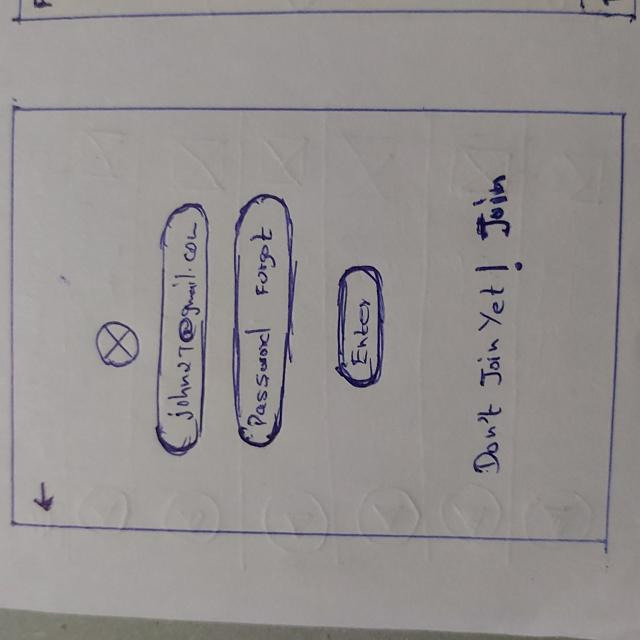BackButton: (28, 478, 63, 519)
Button: (333, 265, 385, 391)
EditText: (228, 189, 299, 455), (156, 204, 210, 460)
MainLayout: (7, 101, 628, 547)
RoundedImage: (91, 319, 145, 370)
TextView: (471, 262, 514, 475), (474, 173, 516, 241)
